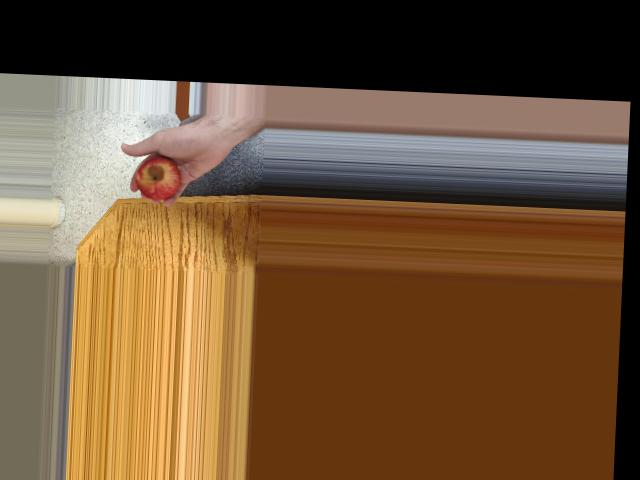apple: (132, 149, 188, 200)
